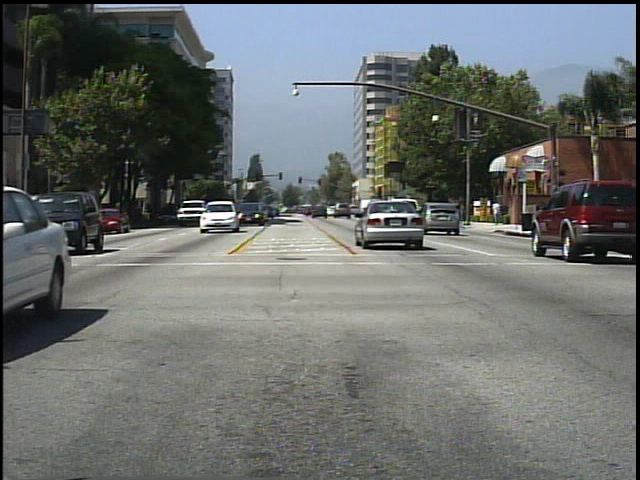person: (448, 194, 465, 229), (491, 196, 503, 228)
